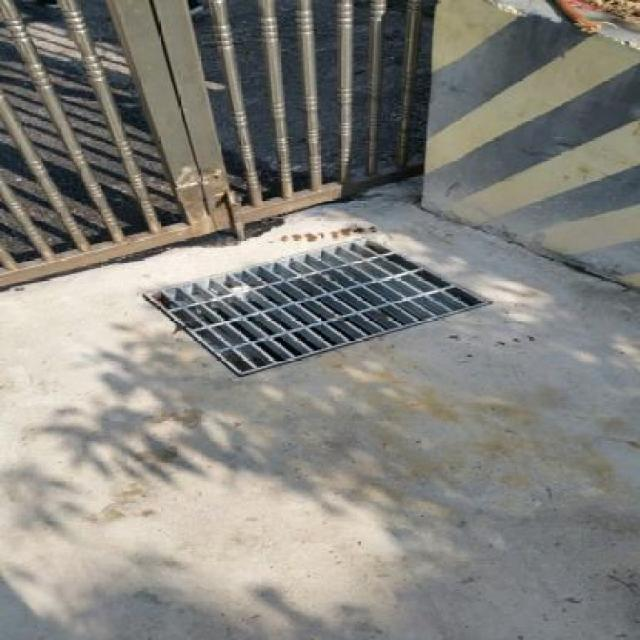Drain Hole: (141, 252, 505, 376)
